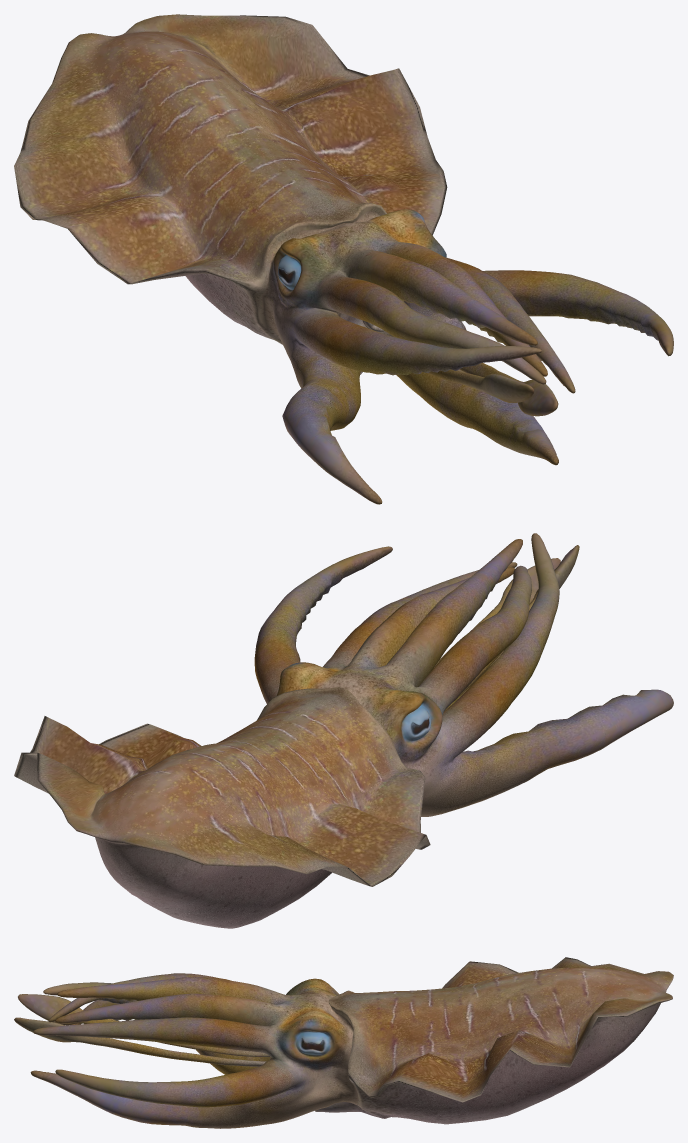
Rendered from squid.glb.
3 renders of one model, top to bottom at view 1: azimuth 30°, elevation 25°; view 2: azimuth 150°, elevation 25°; view 3: azimuth 270°, elevation 25°, orthographic. The views are drawn at different scales.
Parts seen in each view (by area): view 1: Squid; view 2: Squid; view 3: Squid.
Boxes of the visible parts, x1=… form: Squid: x1=14, y1=14, x2=673, y2=504; Squid: x1=14, y1=533, x2=673, y2=928; Squid: x1=14, y1=957, x2=673, y2=1128.
Size of the model in its own units: 0.4746 by 0.252 by 1.
1 material, 1 textured.
